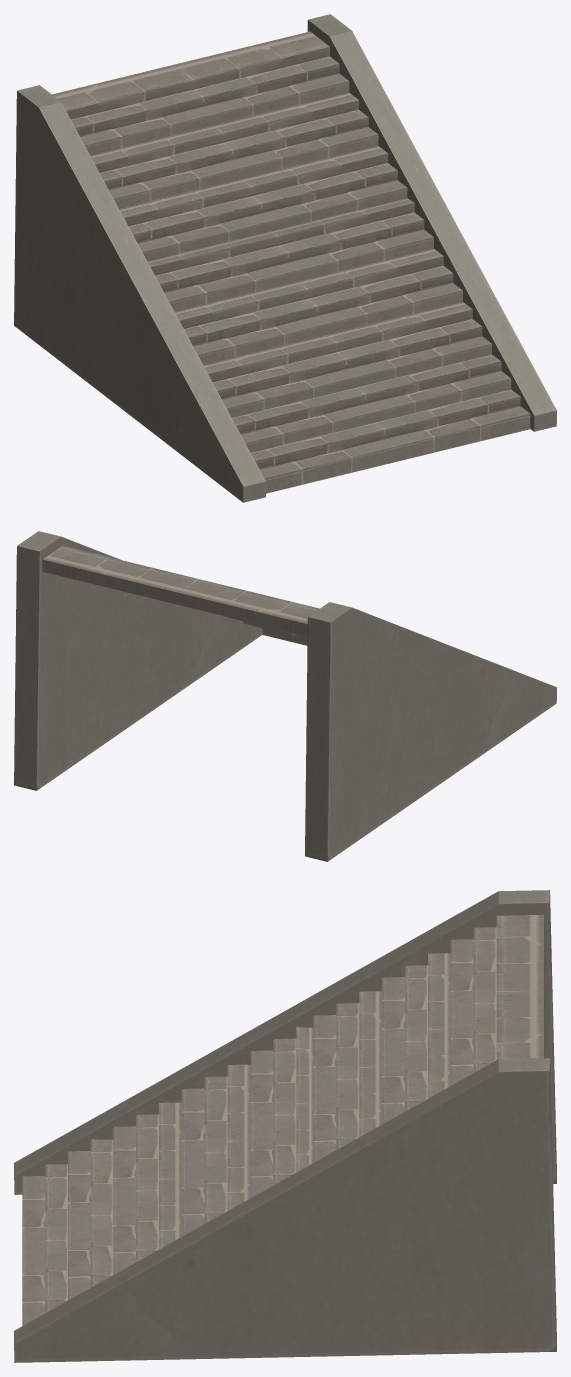
File: mod_zlc_jianzhu078_xy.FBX
3 renders of one model, top to bottom at view 1: azimuth 30°, elevation 25°; view 2: azimuth 150°, elevation 25°; view 3: azimuth 270°, elevation 25°, orthographic. The views are drawn at different scales.
Visible parts, largest first — view 1: mod_zlc_jianzhu078_xy; view 2: mod_zlc_jianzhu078_xy; view 3: mod_zlc_jianzhu078_xy.
Boxes of the visible parts, x1,y1,x2,y2 form: mod_zlc_jianzhu078_xy: (14, 14, 556, 502); mod_zlc_jianzhu078_xy: (14, 531, 556, 861); mod_zlc_jianzhu078_xy: (14, 890, 556, 1362).
Bounding box in the file's own units: 956 × 718 × 1212.
1 material, 1 textured.
